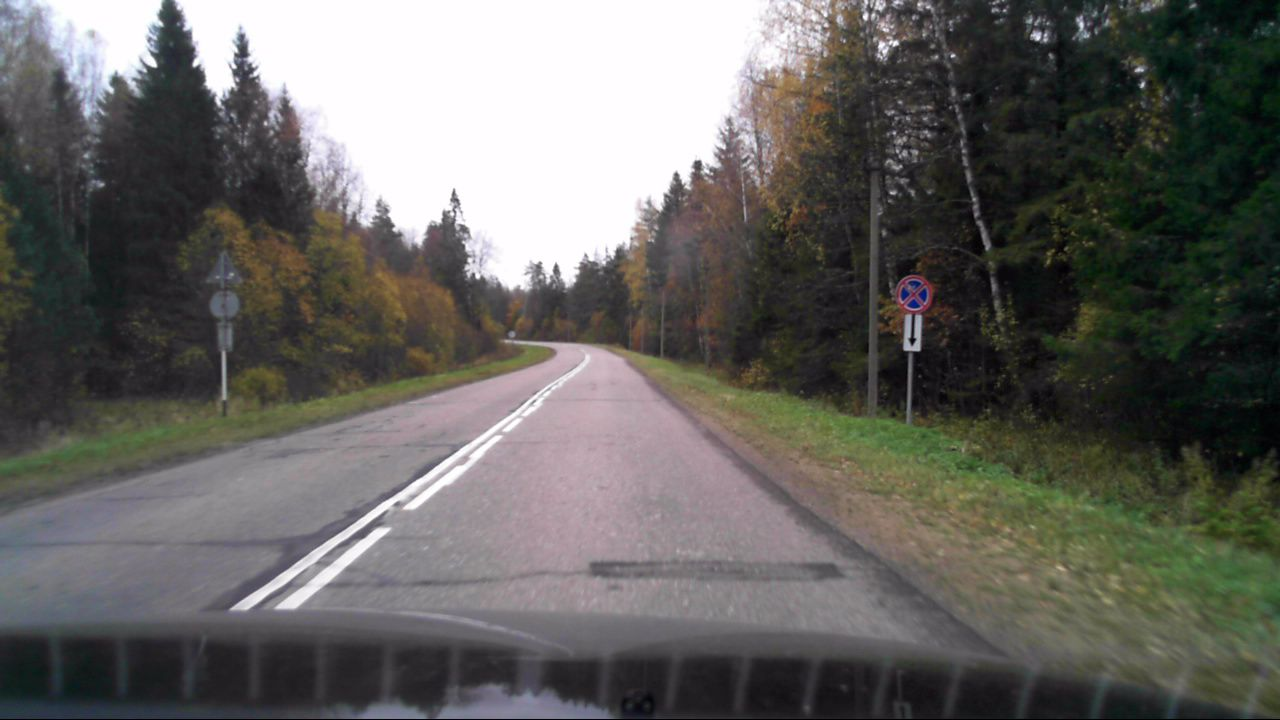No Parking: (895, 274, 933, 314)
